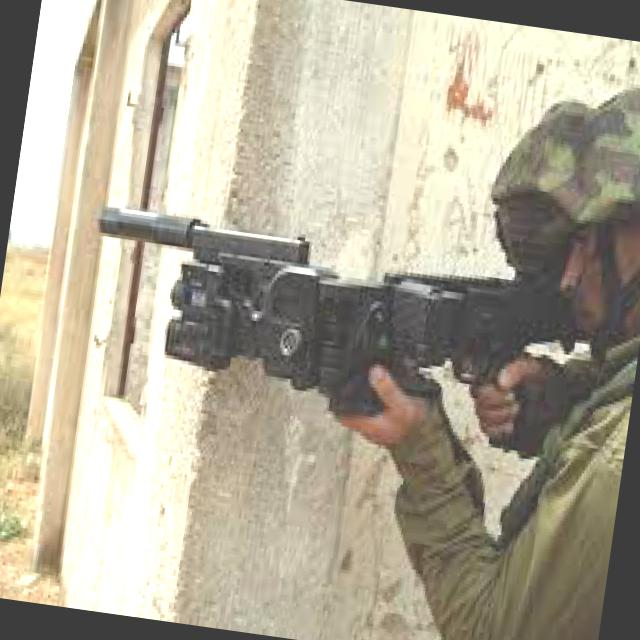long weapon: (49, 192, 513, 456)
